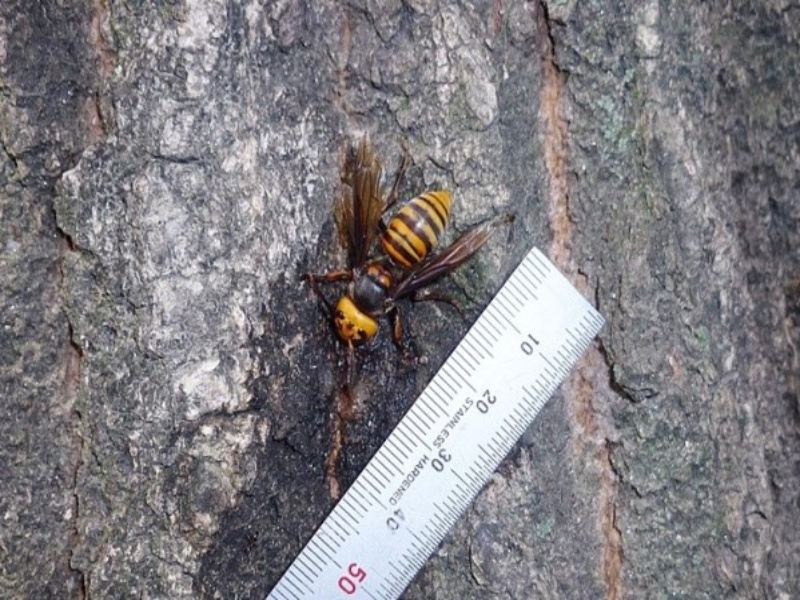asian_giant_hornet: (318, 183, 459, 363)
